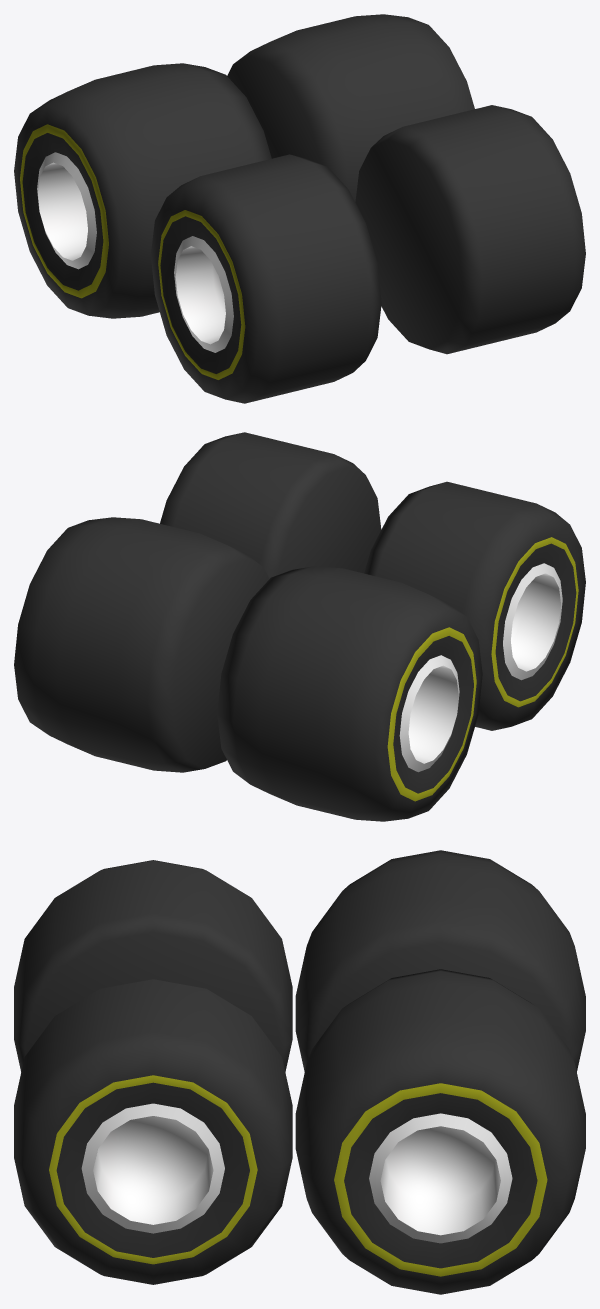
File: Wheels_mid_extra.fbx
3 views of the same model, one above another, from view 1: azimuth 30°, elevation 25°; view 2: azimuth 150°, elevation 25°; view 3: azimuth 270°, elevation 25° (orthographic). The views are drawn at different scales.
Visible parts, largest first — view 1: wheel_mid_extra_rightfront, wheel_mid_extra_leftfront, wheel_mid_extra_rightback, wheel_mid_extra_leftback; view 2: wheel_mid_extra_rightback, wheel_mid_extra_leftback, wheel_mid_extra_rightfront, wheel_mid_extra_leftfront; view 3: wheel_mid_extra_leftback, wheel_mid_extra_leftfront, wheel_mid_extra_rightback, wheel_mid_extra_rightfront.
Part boxes in pixels (x1=…): wheel_mid_extra_rightfront: x1=151, y1=154, x2=381, y2=403; wheel_mid_extra_leftfront: x1=355, y1=105, x2=585, y2=354; wheel_mid_extra_rightback: x1=14, y1=63, x2=271, y2=318; wheel_mid_extra_leftback: x1=227, y1=14, x2=474, y2=201; wheel_mid_extra_rightback: x1=217, y1=566, x2=482, y2=821; wheel_mid_extra_leftback: x1=14, y1=517, x2=269, y2=772; wheel_mid_extra_rightfront: x1=364, y1=481, x2=585, y2=730; wheel_mid_extra_leftfront: x1=160, y1=432, x2=381, y2=578; wheel_mid_extra_leftback: x1=295, y1=969, x2=585, y2=1294; wheel_mid_extra_leftfront: x1=14, y1=979, x2=292, y2=1284; wheel_mid_extra_rightback: x1=295, y1=850, x2=585, y2=1071; wheel_mid_extra_rightfront: x1=14, y1=860, x2=292, y2=1071.
Bounding box in the file's own units: 214 × 121 × 239.
